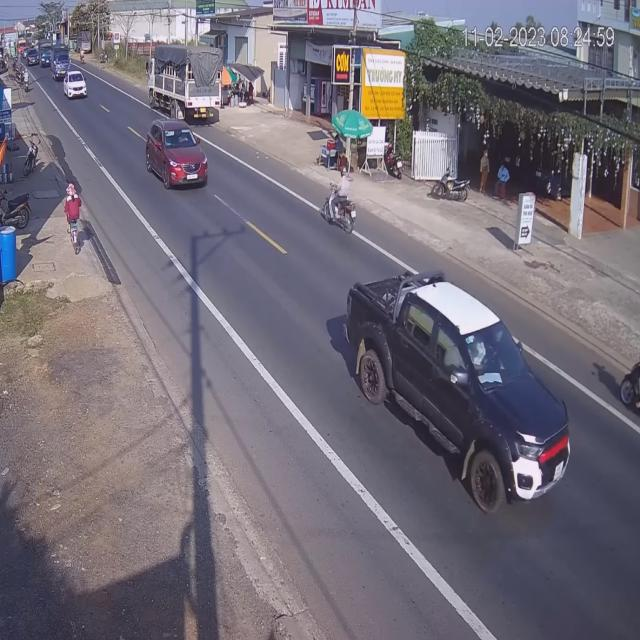car: (338, 277, 568, 521), (146, 118, 207, 191), (64, 70, 88, 100)
motorbike: (617, 333, 640, 466), (323, 177, 359, 235)
truck: (152, 42, 224, 123), (52, 44, 71, 79), (40, 44, 51, 69)
